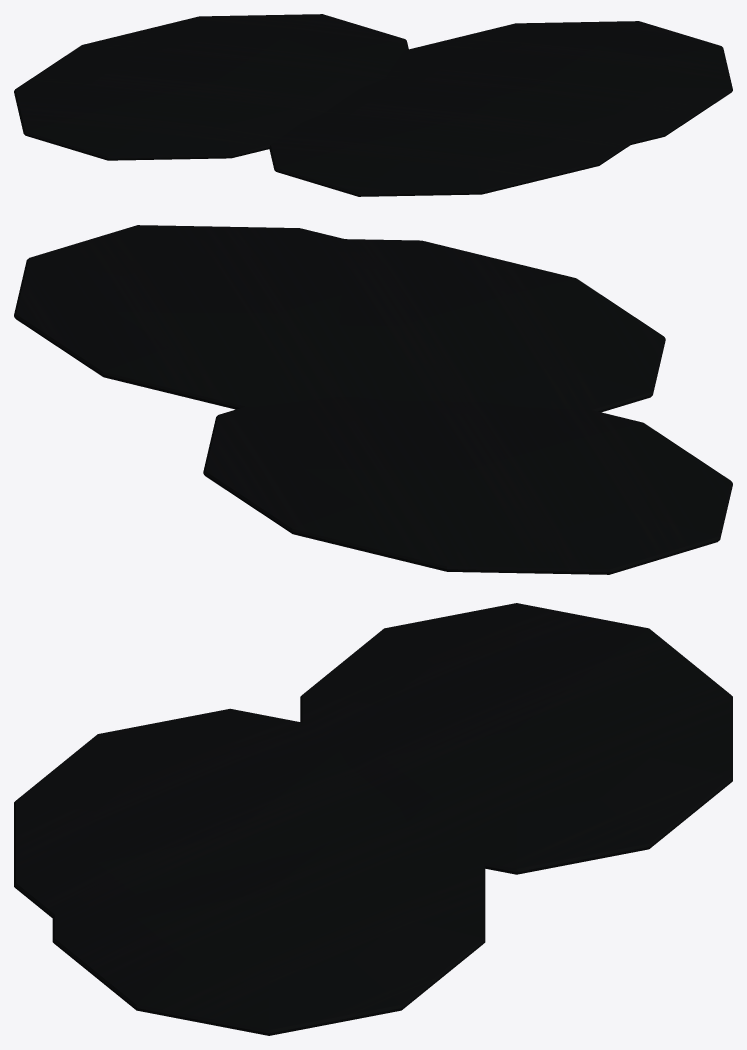
File: PROP-2B06BEBE5CC3_lod1.glb
The picture shows the model from 3 angles, top to bottom: view 1: azimuth 30°, elevation 25°; view 2: azimuth 150°, elevation 25°; view 3: azimuth 270°, elevation 25°; orthographic projection. The views are drawn at different scales.
Parts seen in each view (by area): view 1: surface_hazard.001; view 2: surface_hazard.001; view 3: surface_hazard.001.
Part boxes in pixels (x1,y1,x2,y2): surface_hazard.001: [14, 14, 732, 196]; surface_hazard.001: [14, 225, 732, 574]; surface_hazard.001: [14, 603, 732, 1035].
Size of the model in its own units: 1.82 by 0.036 by 1.29.
1 material, 1 textured.
